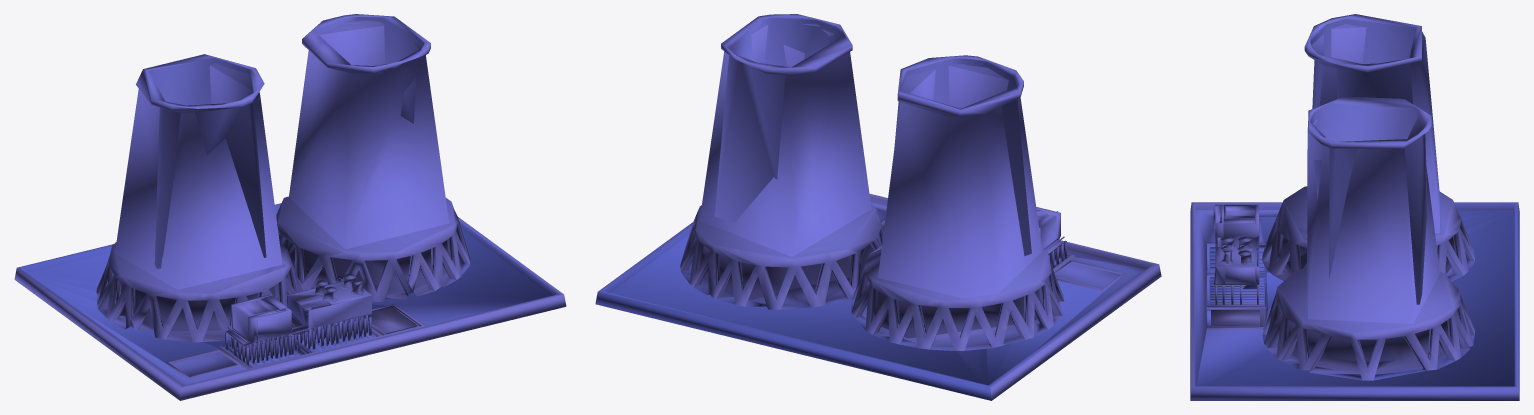
The model's file is model.progressive.glb.
The picture shows the model from 3 angles, left to right: view 1: azimuth 30°, elevation 25°; view 2: azimuth 150°, elevation 25°; view 3: azimuth 270°, elevation 25°; orthographic projection. The views are drawn at different scales.
Visible parts, largest first — view 1: material; view 2: material; view 3: material.
Part boxes in pixels (x1,y1,x2,y2): material: (14,14,566,400); material: (595,14,1161,400); material: (1190,14,1519,400).
Size of the model in its own units: 1.9 by 1.07 by 1.41.
1 material, 1 textured.
